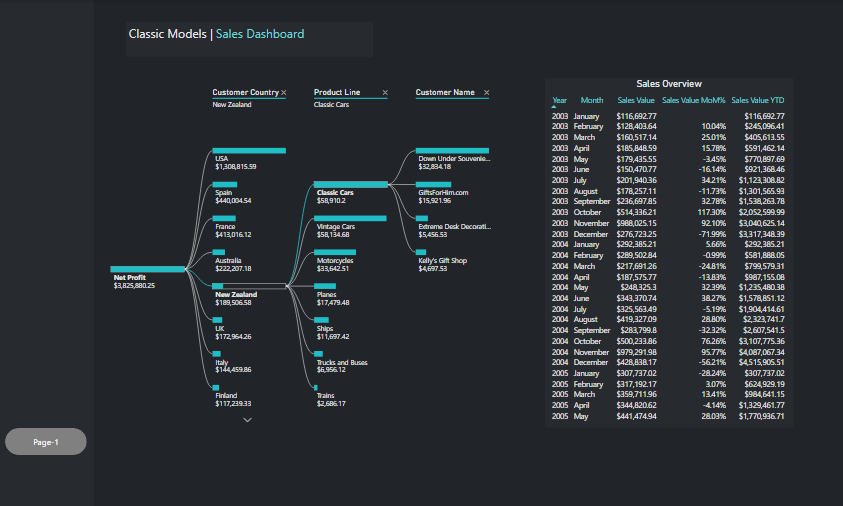

What the dashboard file says about the page in this screenshot:
{"tool":"powerbi","page":{"name":"Sales Overview Page-2","canvas":[1500,900],"ordinal":1},"visuals":[{"type":"shape","box":[0,0,170,900],"z":0},{"type":"decompositionTreeVisual","fields":{"Analyze":["classicmodels sales_data_for_power_bi.Net Profit"],"ExplainBy":["classicmodels sales_data_for_power_bi.customer_country","classicmodels sales_data_for_power_bi.productLine","classicmodels sales_data_for_power_bi.customerName"]},"box":[170.1,138.2,767.1,655.5],"z":2000},{"type":"textbox","box":[226.8,39,437.6,62],"z":3000},{"type":"tableEx","title":"Sales Overview","fields":{"Values":["classicmodels sales_data_for_power_bi.orderdate.Variation.Date Hierarchy.Year","classicmodels sales_data_for_power_bi.orderdate.Variation.Date Hierarchy.Month","Sum(classicmodels sales_data_for_power_bi.sales_value)","classicmodels sales_data_for_power_bi.sales_value MoM%","classicmodels sales_data_for_power_bi.sales_value YTD"]},"box":[968.8,138.4,439.5,619.1],"z":4000},{"type":"actionButton","box":[12.4,758.3,145.3,47.8],"z":5000}]}

Visuals, with their boxes in screenshot pixels (x1, y1, x2, y2), scaled from the page's 1500x900 canvas onto the 843x506 screenshot:
shape: x1=0 y1=0 x2=96 y2=505
decompositionTreeVisual - classicmodels sales_data_for_power_bi.Net Profit x classicmodels sales_data_for_power_bi.customer_country: x1=96 y1=78 x2=527 y2=446
textbox: x1=127 y1=22 x2=373 y2=57
"Sales Overview" tableEx: x1=544 y1=78 x2=791 y2=426
actionButton: x1=7 y1=426 x2=89 y2=453
